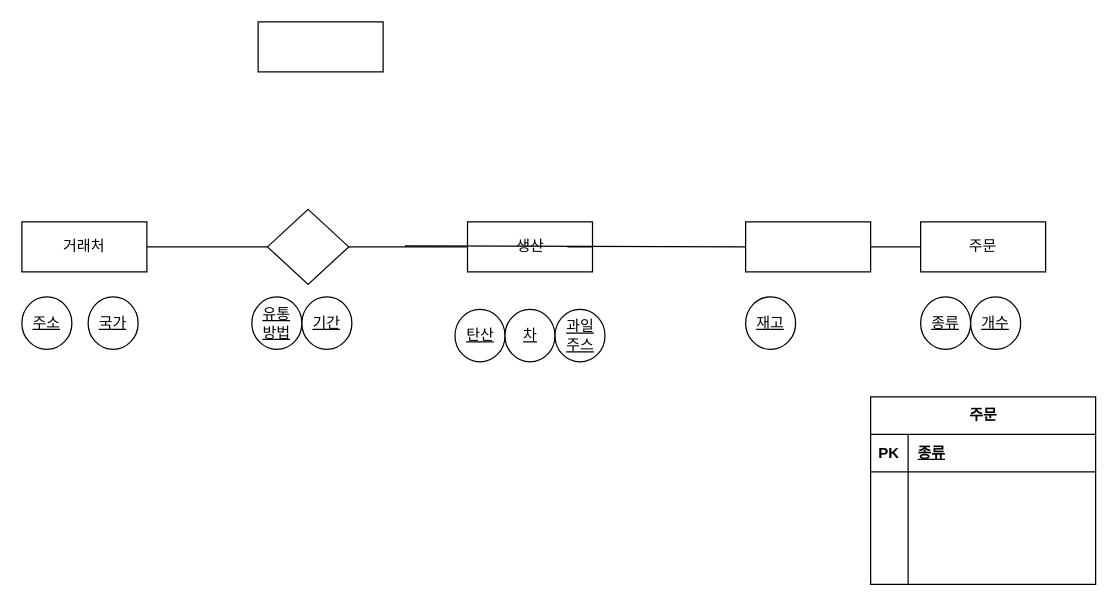
Some shapes in this 1118 by 606 pixel diagram are drawn without their labels. Here are the shapes that lost their labels. From the top down, the centre of each, then its label:
At point 307,246: "유통".
At point 807,246: "제품".
